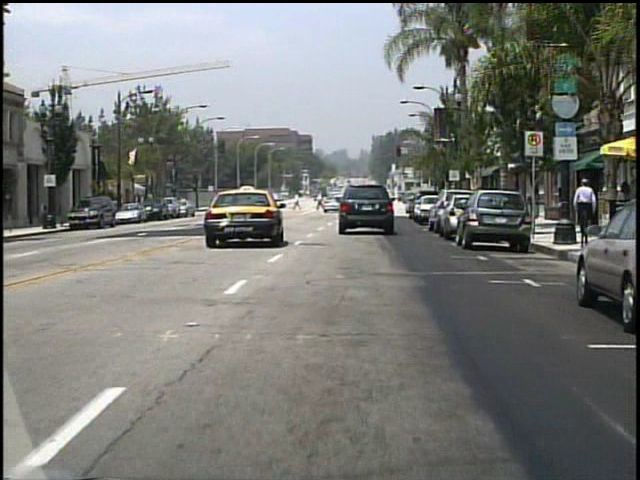person: (572, 178, 594, 227), (292, 192, 303, 212), (314, 192, 325, 212)
